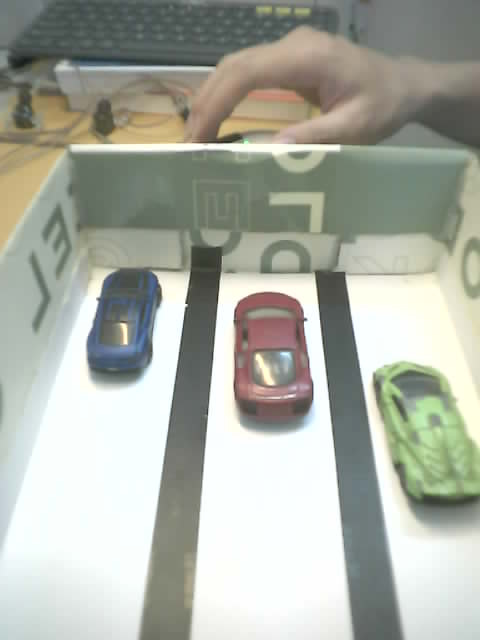vehicle: (372, 362, 465, 532), (233, 292, 314, 434), (86, 268, 162, 388)
